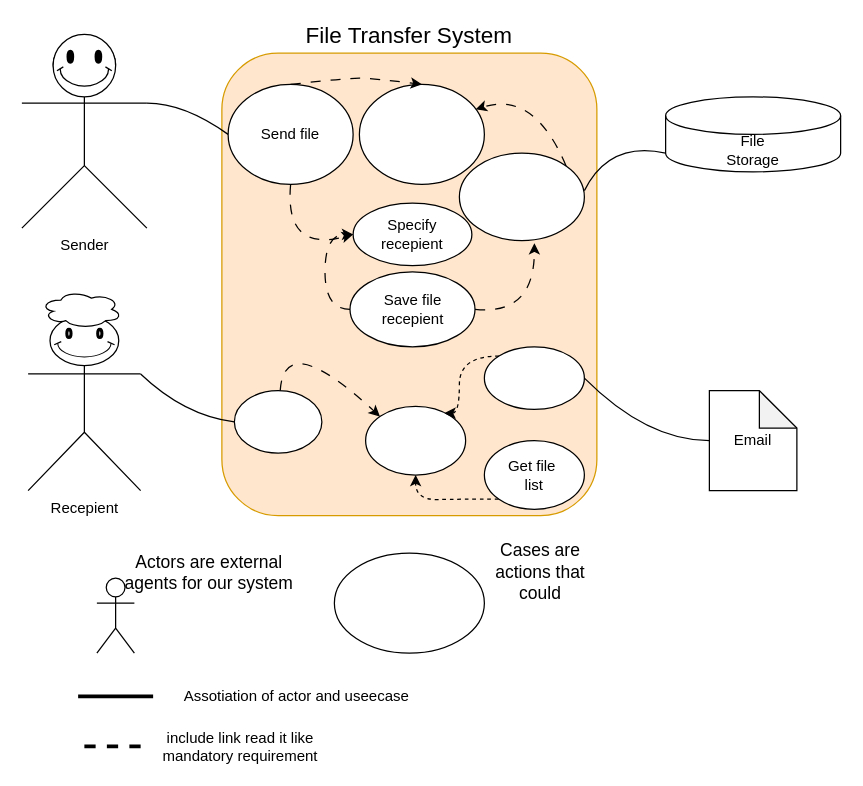
Some shapes in this 863 by 786 pixel diagram are drawn without their labels. Here are the shapes that lost their labels. From the top down, the centre of each, then its label:
At (421,133): "Upload file".
At (521,196): "Store file".
At (533,377): "Send email".
At (277,421): "Get file".
At (415,440): "Get available file".
